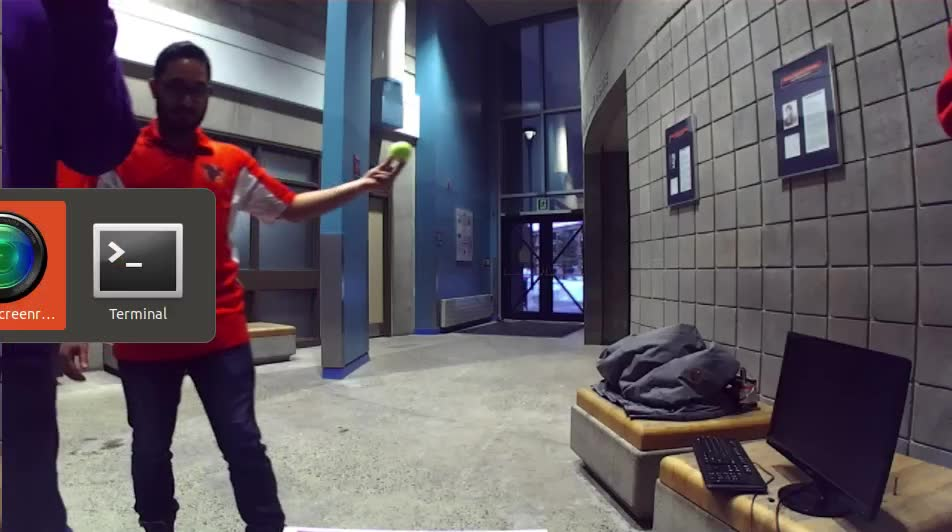tennis_ball: (387, 139, 413, 166)
